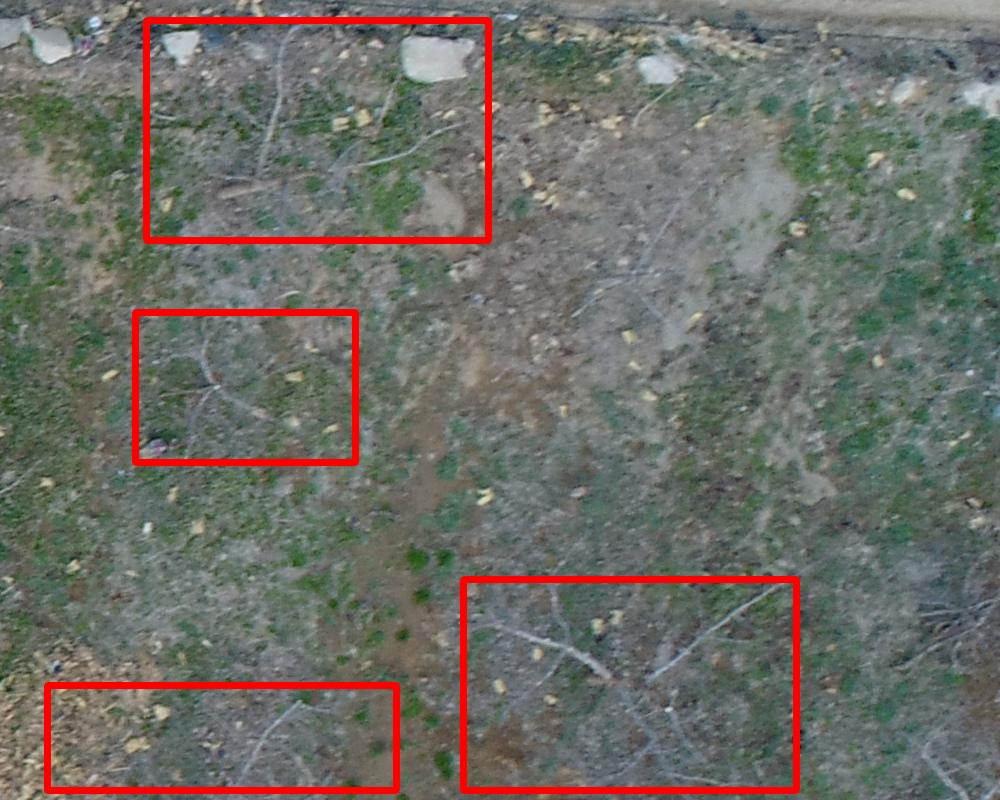apple: (146, 20, 488, 240), (463, 579, 796, 790), (47, 685, 396, 790), (135, 312, 355, 462)
